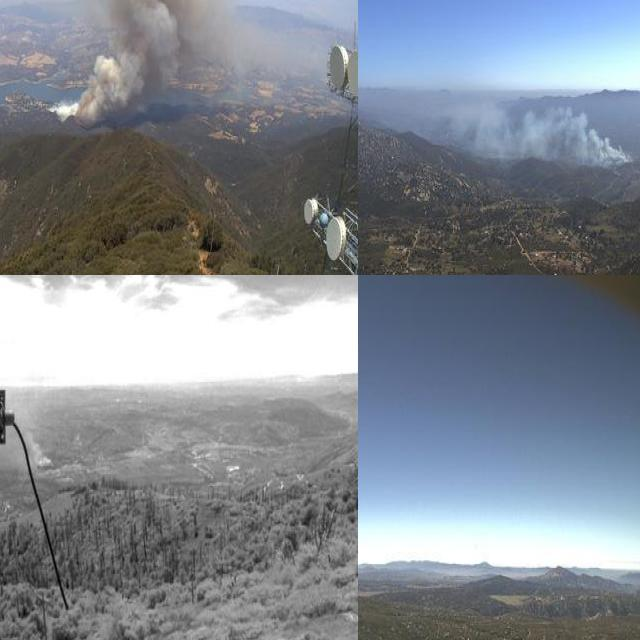smoke: (32, 0, 282, 124), (404, 86, 627, 170), (6, 390, 51, 470)
